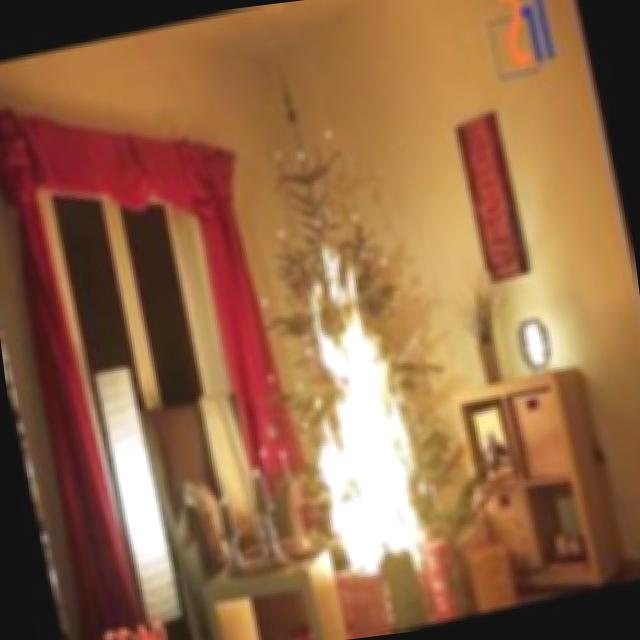fire: (248, 234, 461, 597)
